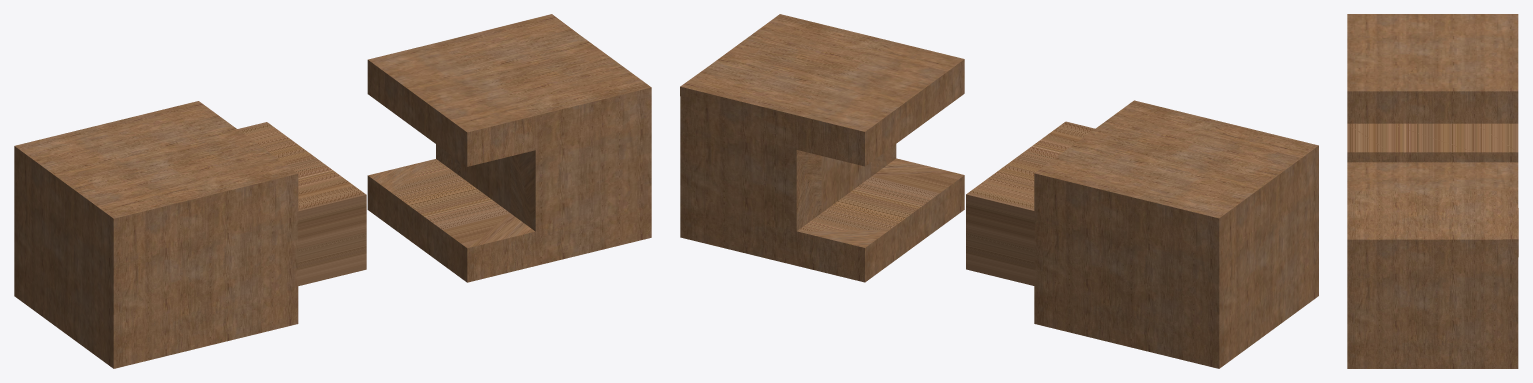
The picture shows the model from 3 angles, left to right: view 1: azimuth 30°, elevation 25°; view 2: azimuth 150°, elevation 25°; view 3: azimuth 270°, elevation 25°; orthographic projection. The views are drawn at different scales.
Visible parts, largest first — view 1: Box008, Box009; view 2: Box008, Box009; view 3: Box009, Box008.
Boxes of the visible parts, left/top/right/bottom form: Box008: left=14, top=101, right=366, bottom=368; Box009: left=367, top=14, right=651, bottom=282; Box008: left=966, top=100, right=1318, bottom=368; Box009: left=680, top=14, right=964, bottom=282; Box009: left=1347, top=162, right=1518, bottom=368; Box008: left=1347, top=14, right=1518, bottom=162.
Size of the model in its own units: 5.33 by 1.43 by 1.71.
Materials: 1 (1 with a texture image).
